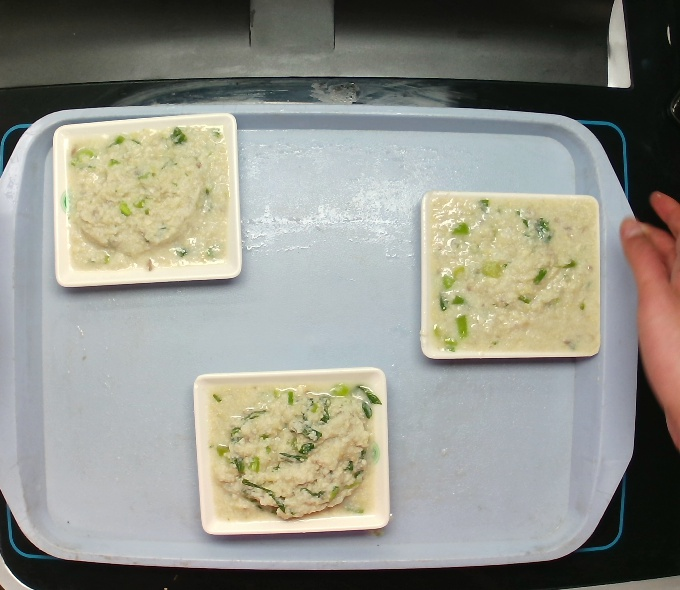wcq-QinCaiDouFuZha: (423, 188, 600, 364), (63, 119, 225, 282), (203, 380, 386, 522)
